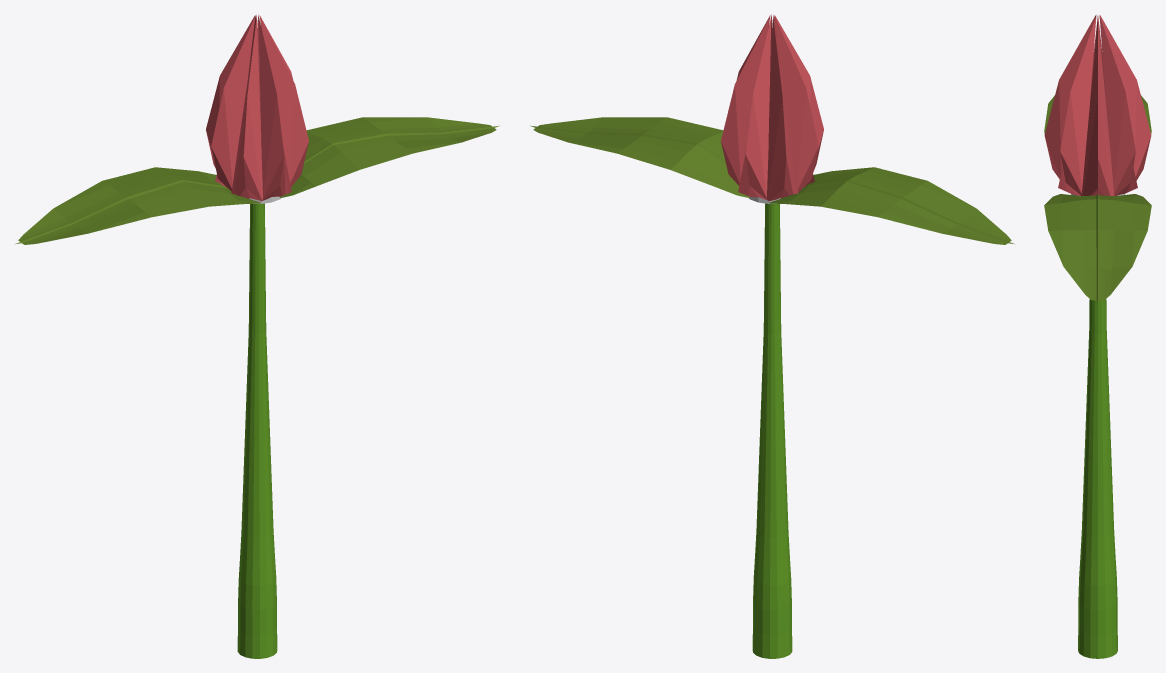
The model's file is sprout1.fbx.
3 views of the same model, side by side, from view 1: azimuth 30°, elevation 25°; view 2: azimuth 150°, elevation 25°; view 3: azimuth 270°, elevation 25° (orthographic).
Visible parts, largest first — view 1: leaf, Circle.001, stem; view 2: leaf, Circle.001, stem; view 3: Circle.001, stem, leaf.
Part boxes in pixels (<box>): leaf: <box>15,117,499,244</box>; Circle.001: <box>206,14,308,201</box>; stem: <box>237,203,277,658</box>; leaf: <box>530,117,1014,244</box>; Circle.001: <box>721,14,823,201</box>; stem: <box>752,203,792,658</box>; Circle.001: <box>1044,15,1151,195</box>; stem: <box>1078,299,1117,658</box>; leaf: <box>1044,95,1151,302</box>.
Bounding box in the file's own units: 195 × 243 × 37.37.
